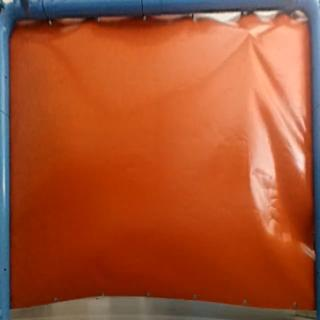Hit-hRxx: (241, 25, 258, 43)
